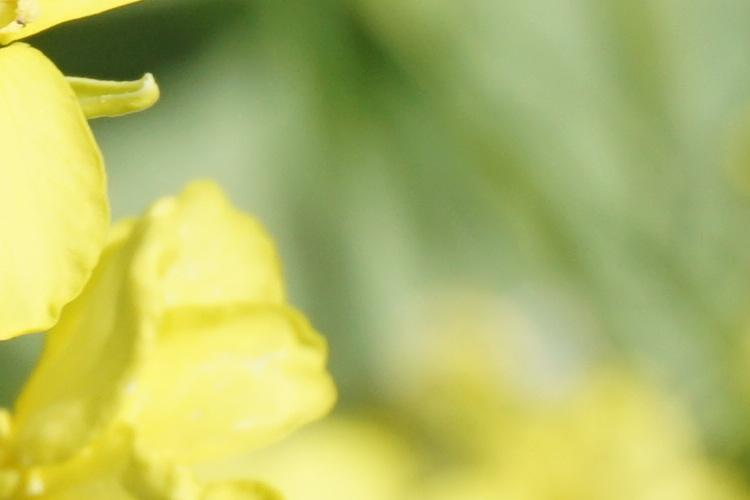yellow: (10, 57, 367, 498)
